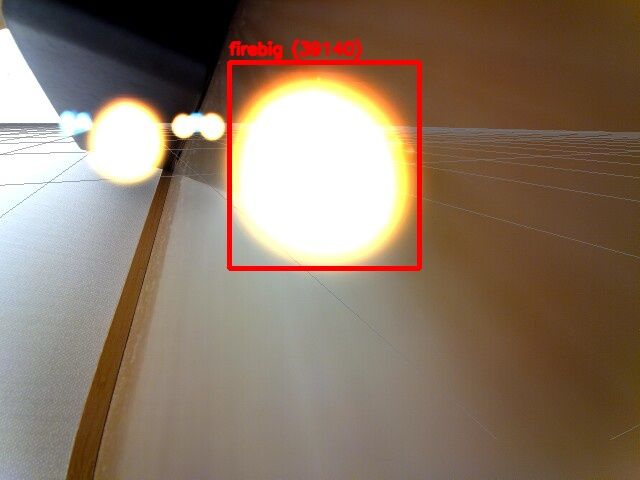firebig: (229, 62, 419, 268)
